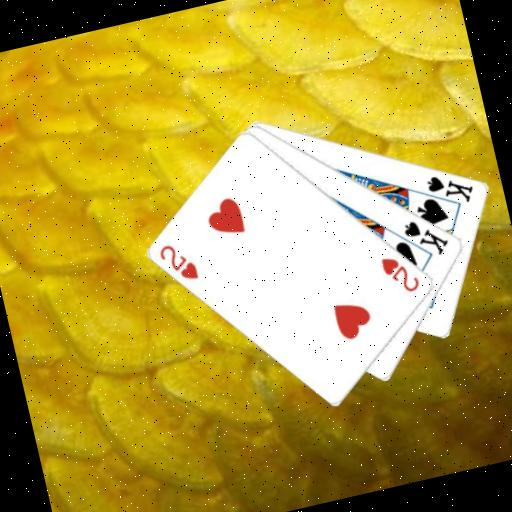2H: (155, 236, 202, 288), (377, 249, 423, 300)
KS: (399, 211, 453, 264), (422, 164, 478, 212)
